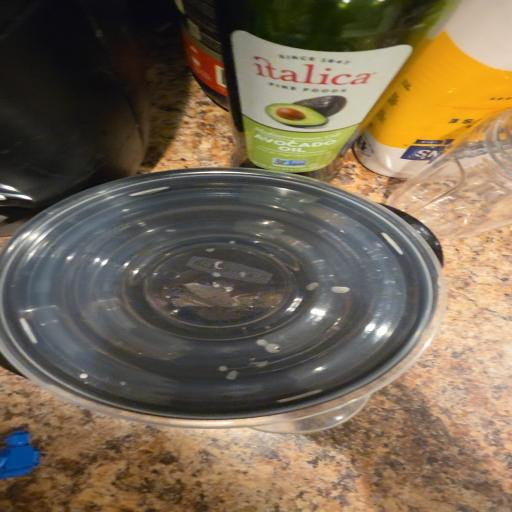Blue: (0, 430, 39, 479)
